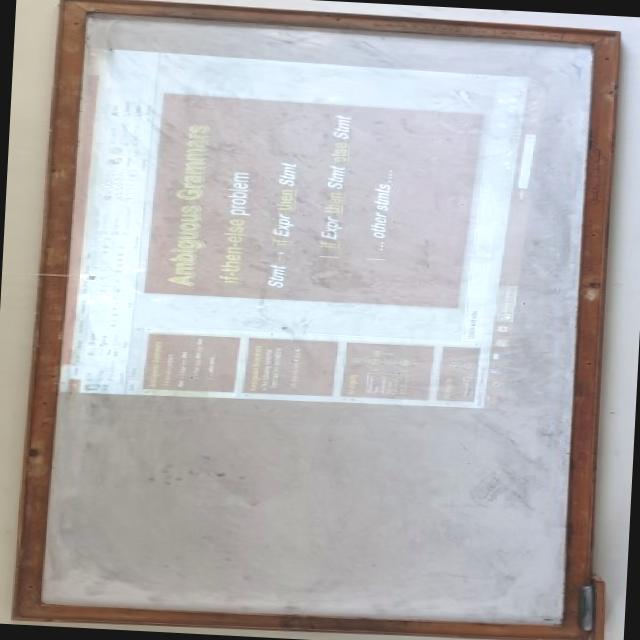Slide: (38, 47, 550, 409)
White-board: (23, 2, 608, 635)
